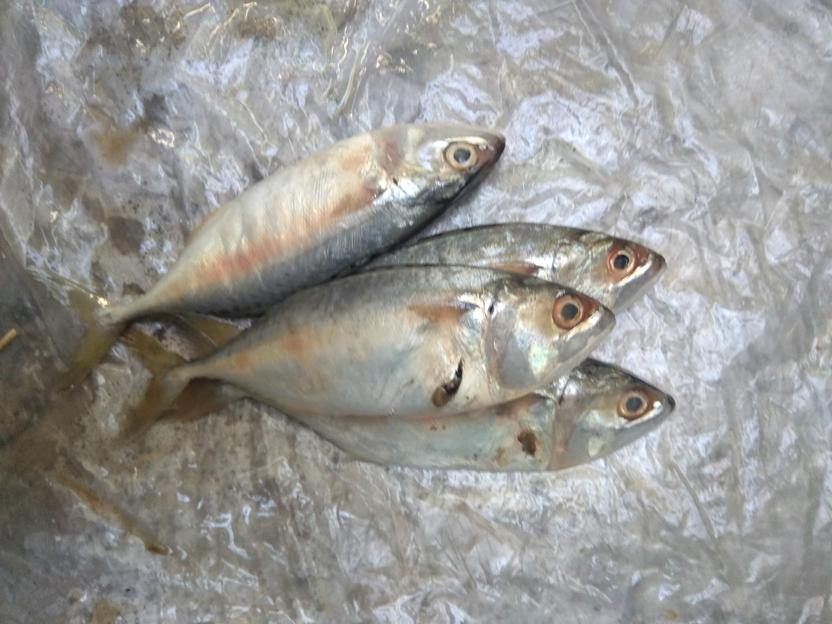Fish head: (487, 268, 618, 409), (550, 359, 677, 471), (394, 124, 505, 212), (554, 224, 669, 308)
Fish tail: (39, 269, 127, 395), (109, 324, 189, 451)
